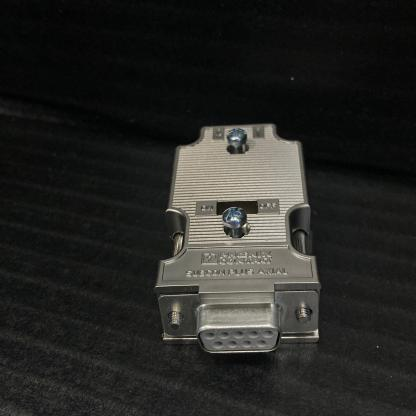SP0000010: (101, 94, 364, 372)
